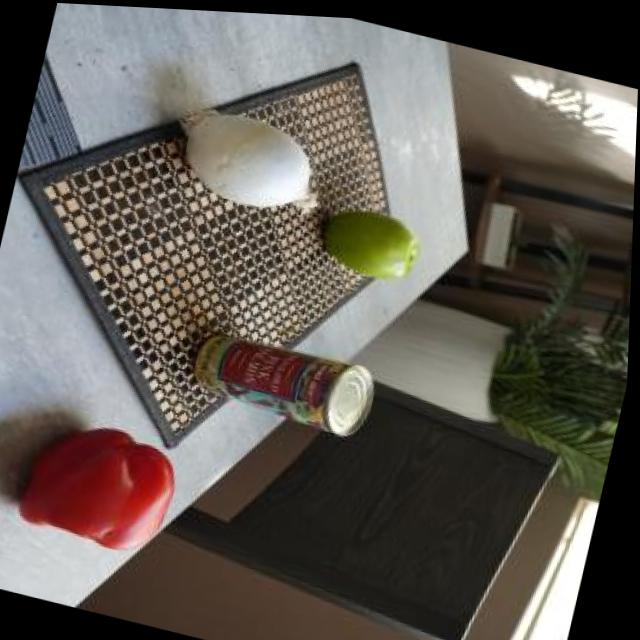Wet: (8, 404, 192, 573), (166, 94, 333, 225)
